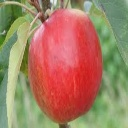apple: (28, 9, 104, 122)
